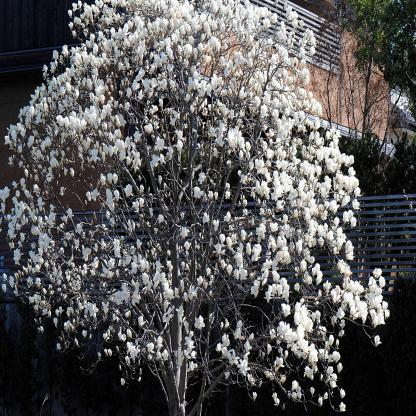Mokuren: (0, 0, 391, 416)
